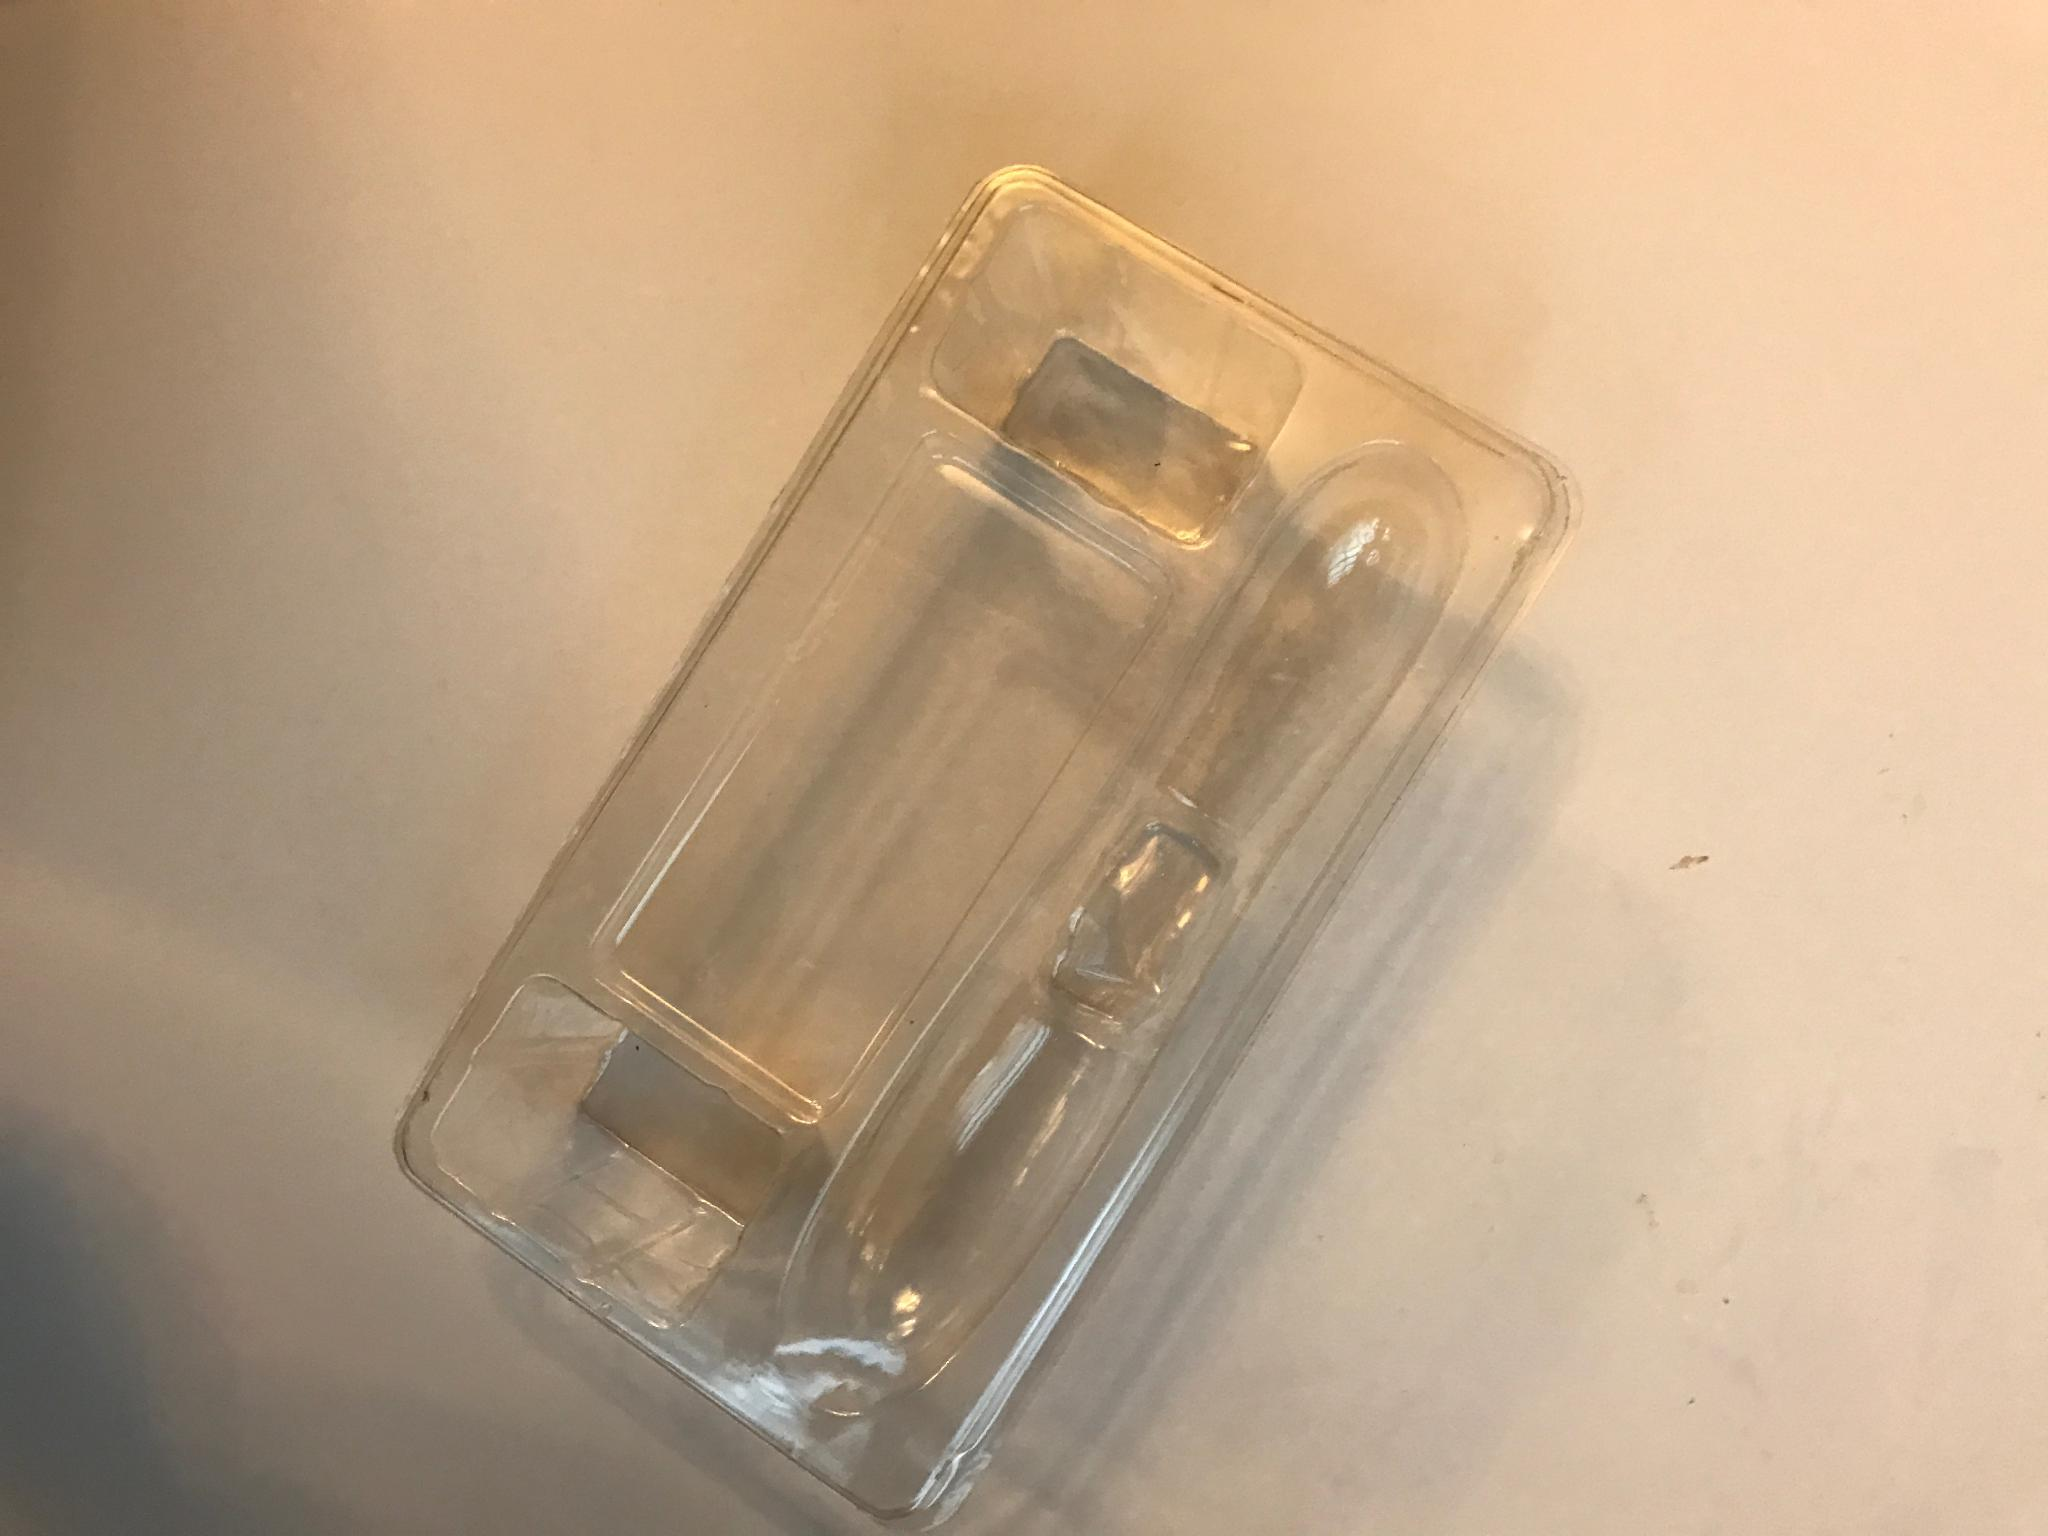Plastic: (385, 147, 1590, 1534)
